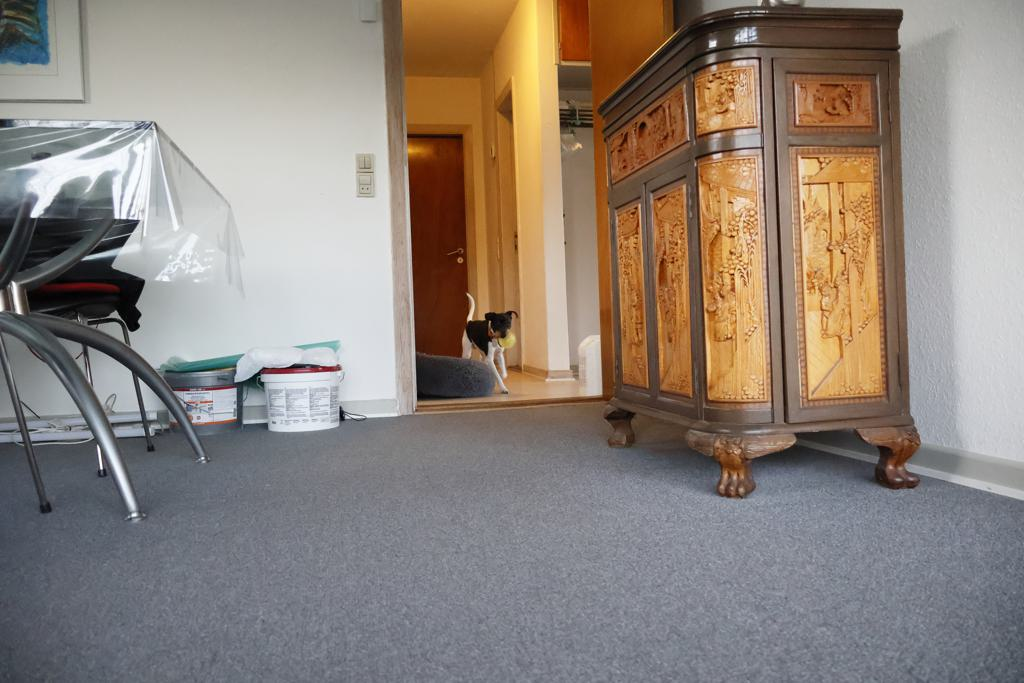Dog: (457, 284, 523, 397)
